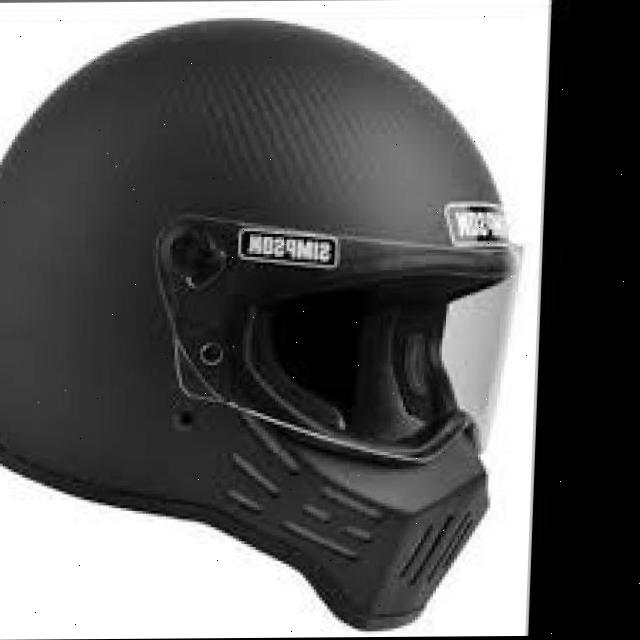Helmet: (0, 23, 528, 632)
